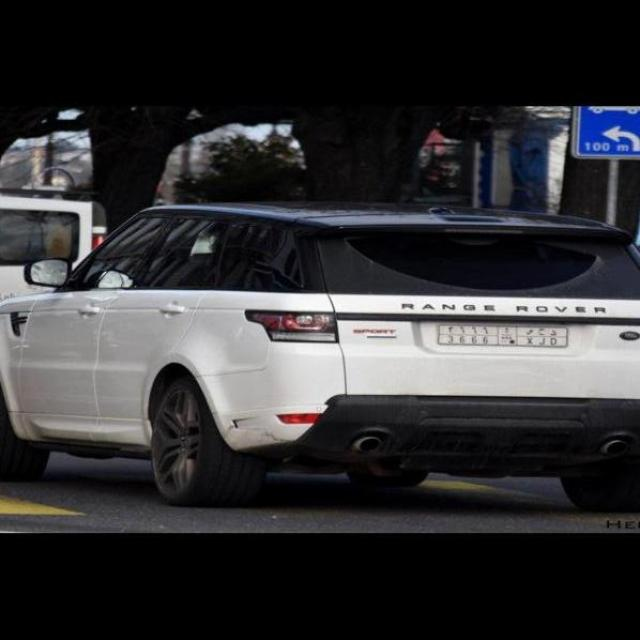license_plate: (436, 320, 572, 347)
